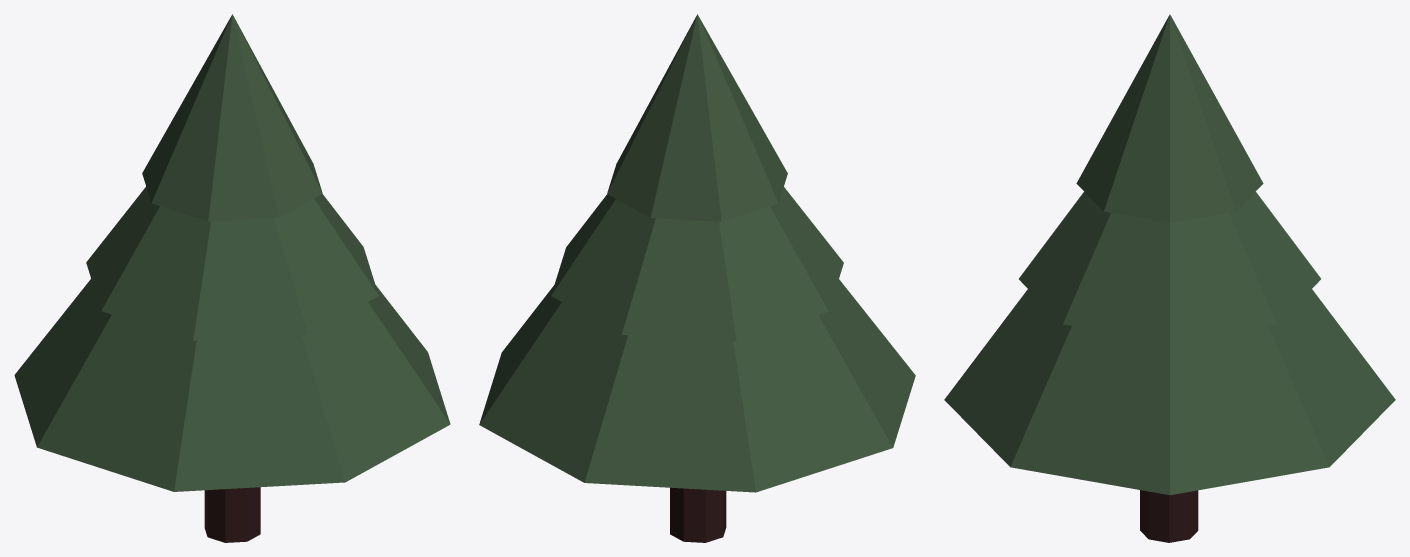
File: Tree1.fbx
The picture shows the model from 3 angles, left to right: view 1: azimuth 30°, elevation 25°; view 2: azimuth 150°, elevation 25°; view 3: azimuth 270°, elevation 25°; orthographic projection.
Visible parts, largest first — view 1: Cone; view 2: Cone; view 3: Cone.
Boxes of the visible parts, box(x1,y1,x2,y2) form: Cone: box(14, 14, 450, 542); Cone: box(479, 14, 915, 542); Cone: box(944, 14, 1395, 542).
Size of the model in its own units: 483 by 610 by 483.
